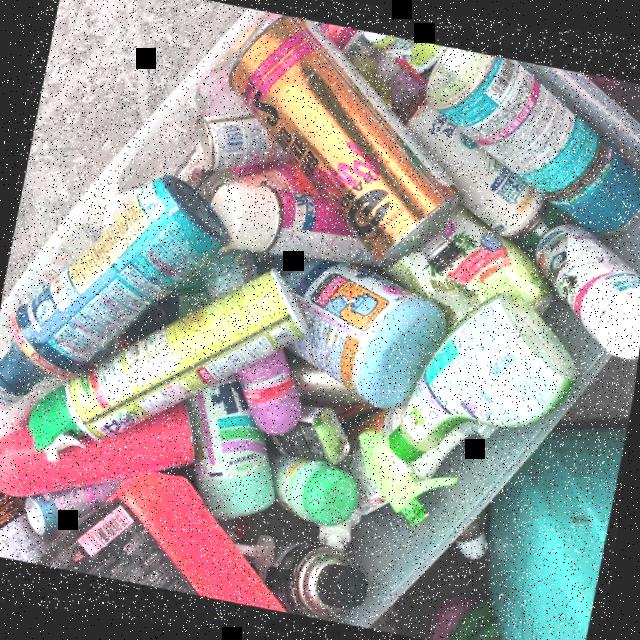chemical_spray_can: (25, 268, 305, 461)
